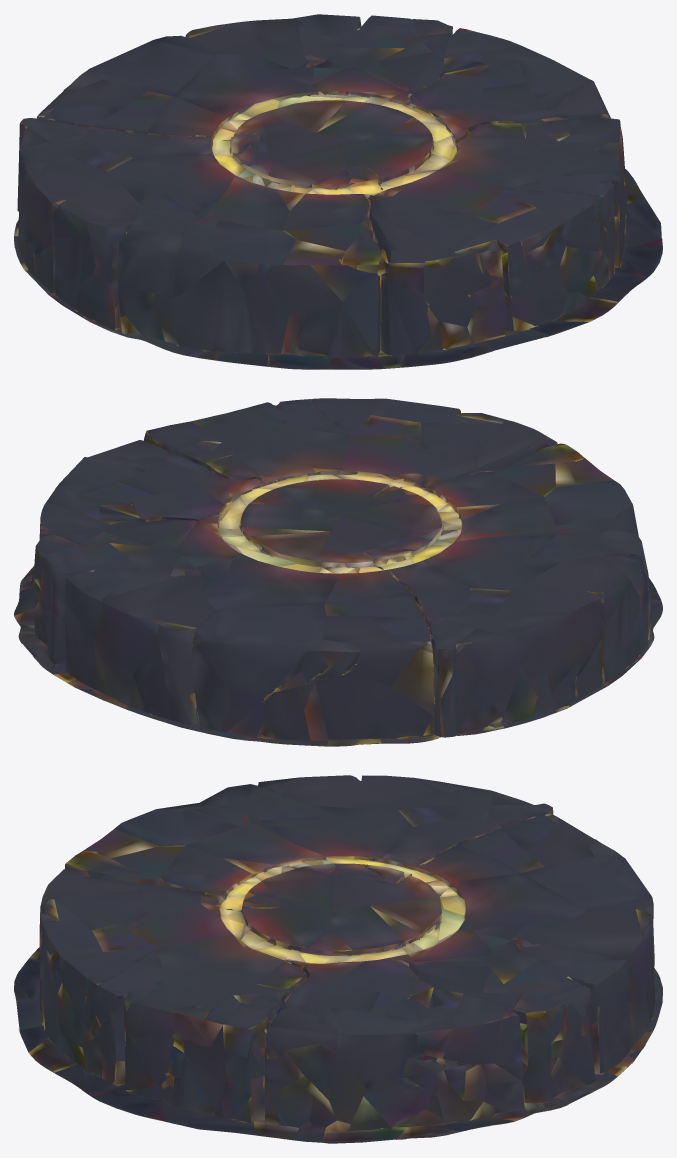
File: volcano-ritual-circle-lod2.glb
3 renders of one model, top to bottom at view 1: azimuth 30°, elevation 25°; view 2: azimuth 150°, elevation 25°; view 3: azimuth 270°, elevation 25°, orthographic.
Parts seen in each view (by area): view 1: Mesh_0; view 2: Mesh_0; view 3: Mesh_0.
Boxes of the visible parts, x1,y1,x2,y2 form: Mesh_0: (14, 14, 662, 369); Mesh_0: (14, 398, 662, 746); Mesh_0: (14, 775, 662, 1143).
Bounding box in the file's own units: 1.9 × 0.3088 × 1.86.
1 material, 1 textured.
